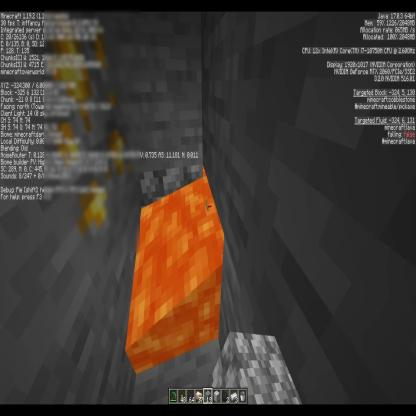gold ore: (44, 0, 140, 252)
